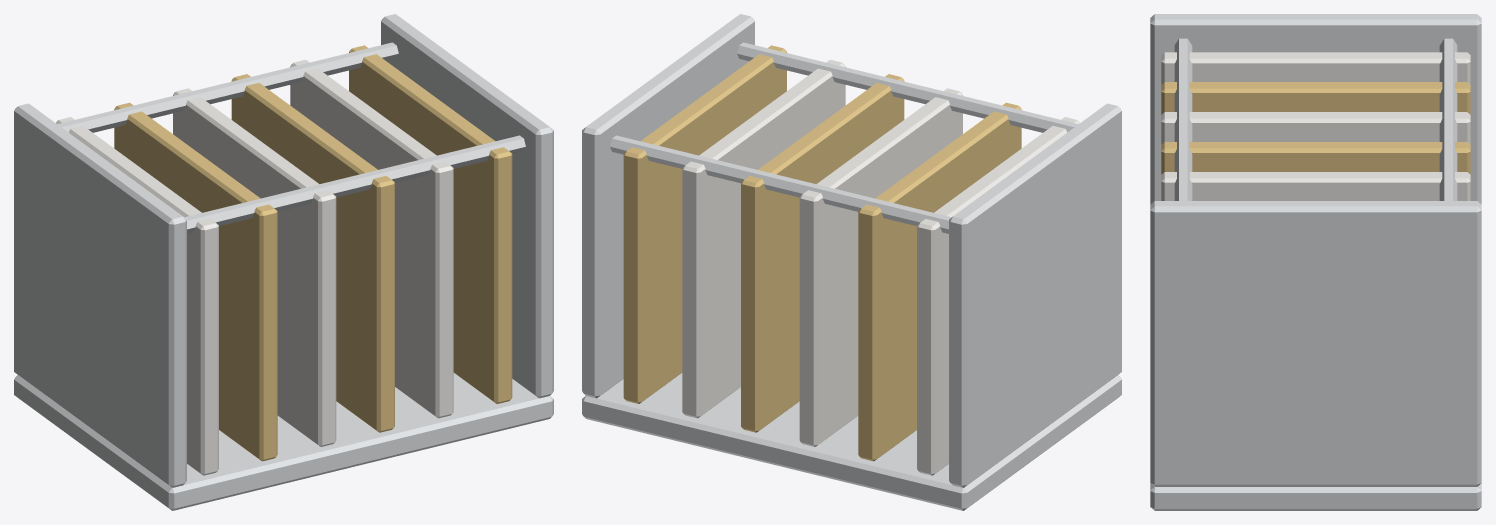
The model's file is restaurant-kitchen-and-dining-chopping-board-rack-17754103__16450.glb.
The picture shows the model from 3 angles, left to right: view 1: azimuth 30°, elevation 25°; view 2: azimuth 150°, elevation 25°; view 3: azimuth 270°, elevation 25°; orthographic projection. The views are drawn at different scales.
Visible parts, largest first — view 1: chopping-board-rack; view 2: chopping-board-rack; view 3: chopping-board-rack.
Part boxes in pixels (x1,y1,x2,y2): chopping-board-rack: (14,14,553,510); chopping-board-rack: (582,14,1121,510); chopping-board-rack: (1150,14,1481,510).
Size of the model in its own units: 0.42 by 0.304 by 0.3.
